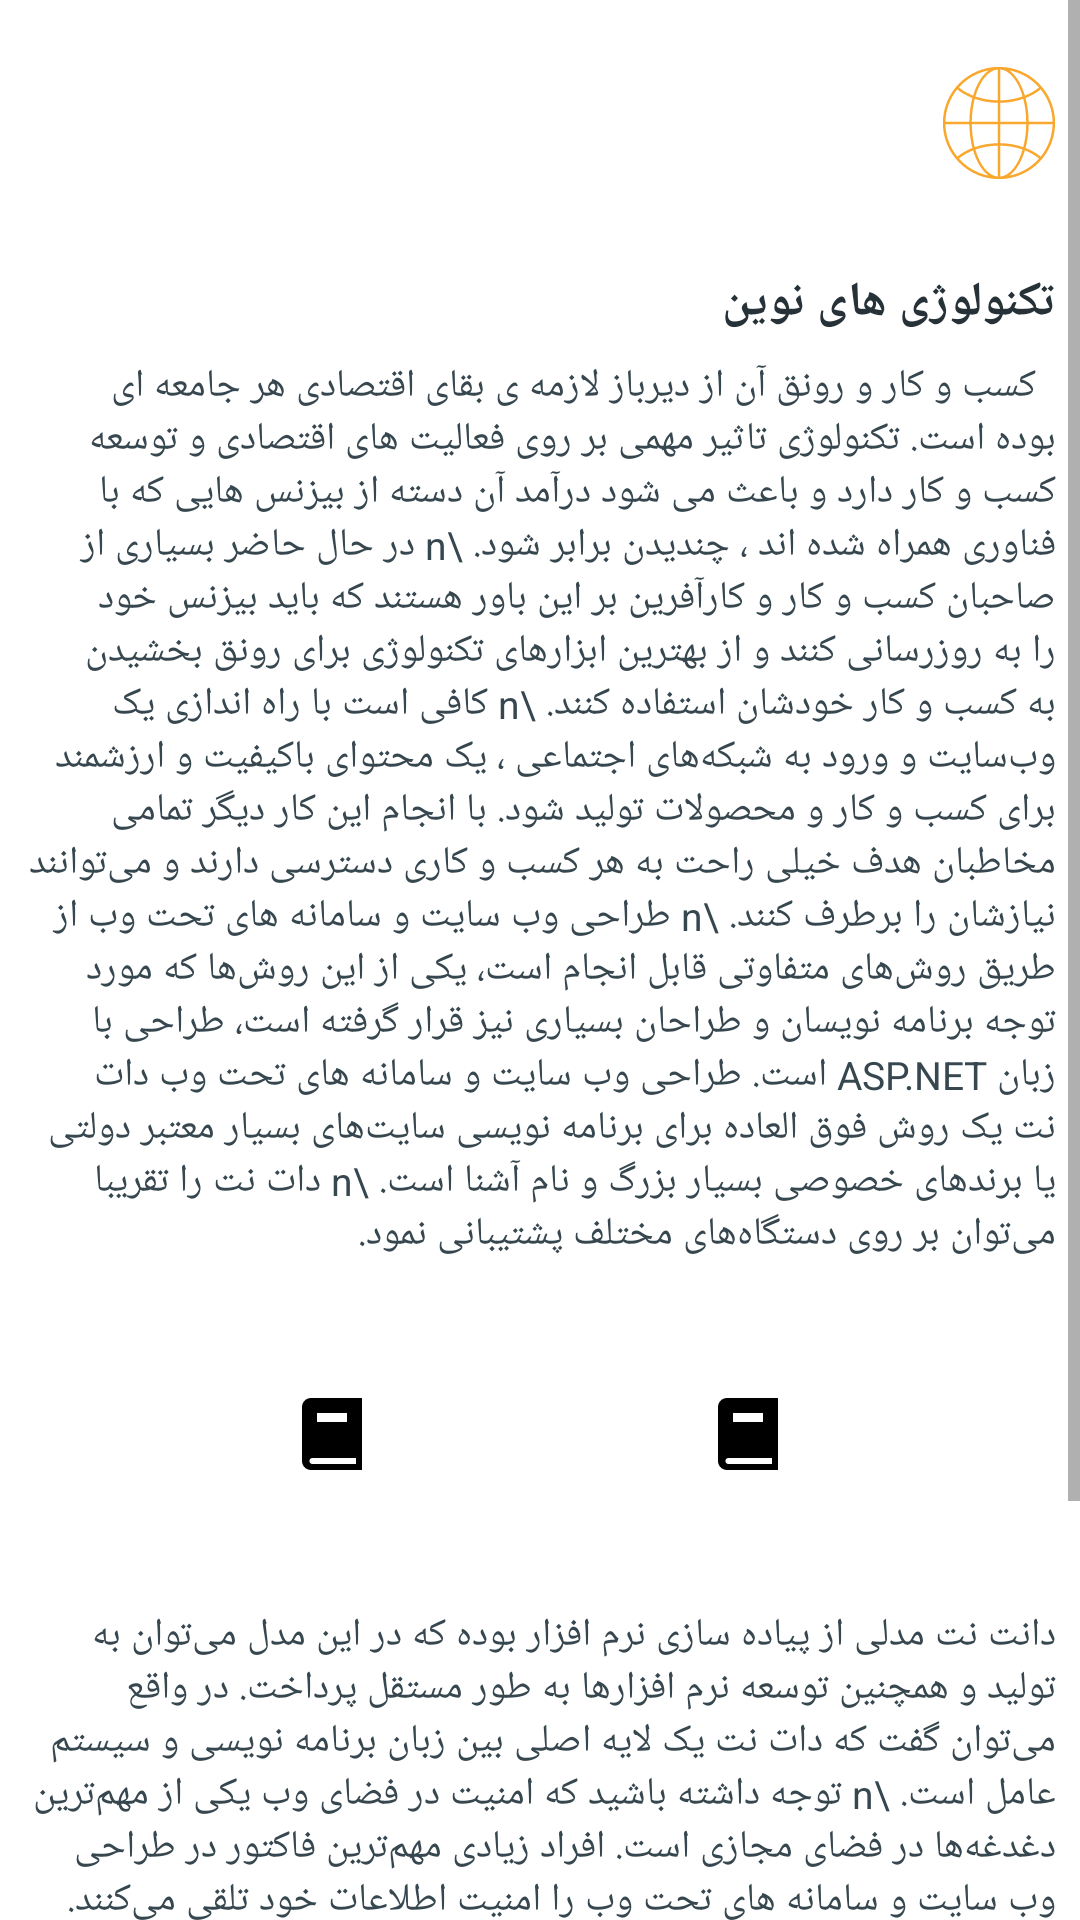

Screen size 1080 × 1920. Icon name, then its box in pixels as (x1, y1, x2, y2):
book: (302, 1398, 362, 1470), (718, 1398, 778, 1470)
earth: (943, 67, 1055, 179)
